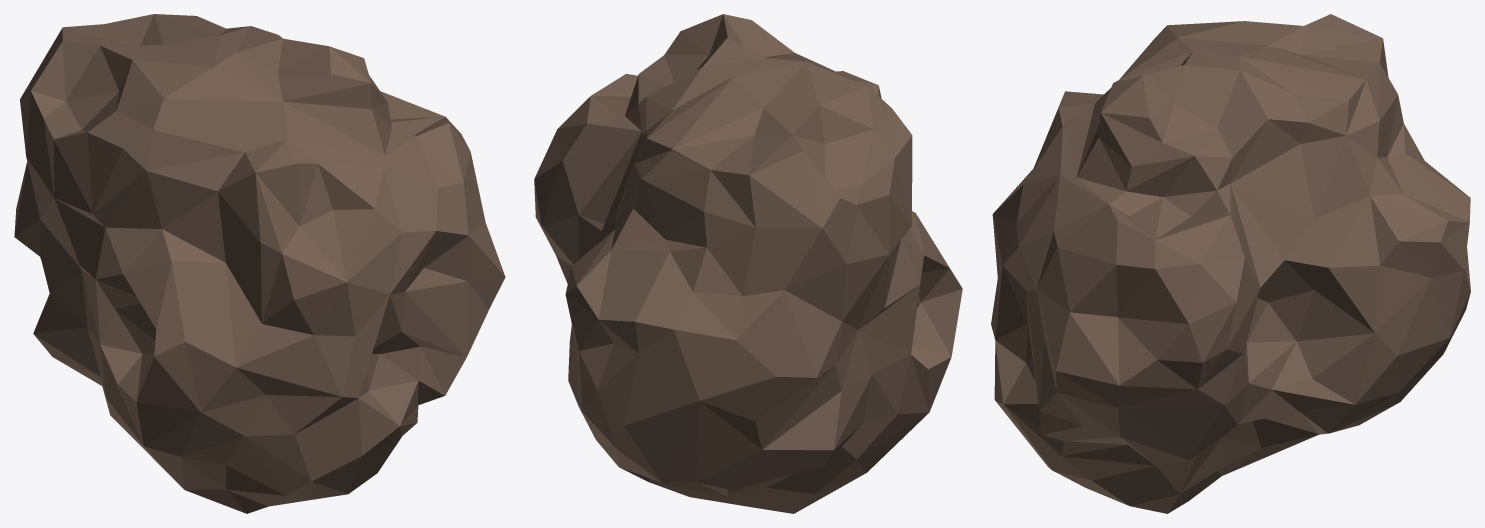
Rendered from Comet_3.fbx.
3 views of the same model, side by side, from view 1: azimuth 30°, elevation 25°; view 2: azimuth 150°, elevation 25°; view 3: azimuth 270°, elevation 25° (orthographic). The views are drawn at different scales.
Visible parts, largest first — view 1: Group47358; view 2: Group47358; view 3: Group47358.
Part boxes in pixels (x1,y1,x2,y2): Group47358: (14,14,505,513); Group47358: (534,14,962,513); Group47358: (991,14,1470,513).
Bounding box in the file's own units: 29.98 × 34.55 × 33.64.
